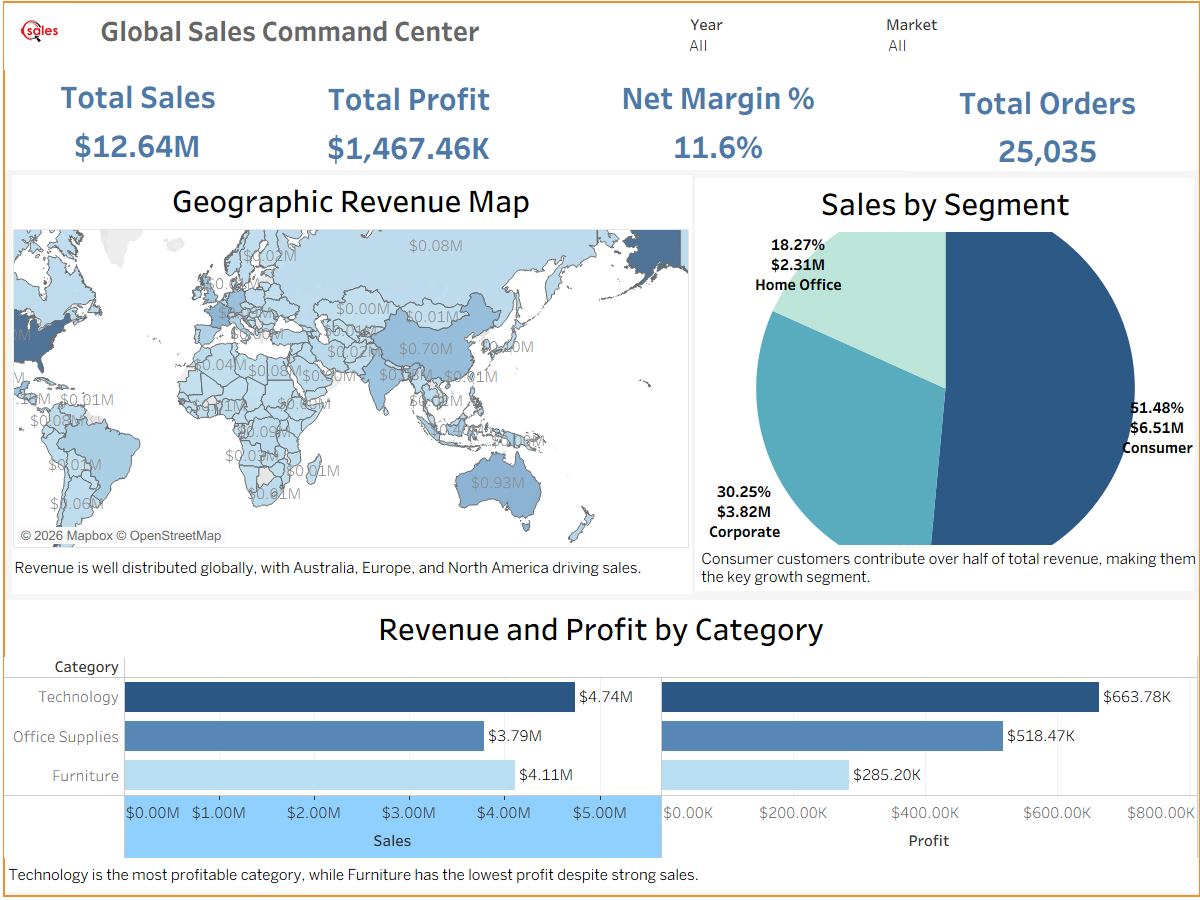

The page's visual inventory and layout, read from the dashboard file:
{"tool":"tableau","page":{"name":"Global Sales","canvas":[1200,900],"ordinal":0},"visuals":[{"type":"image","param":"C:/Users/PC/Pictures/download.png","box":[7,5,107,52]},{"type":"text","box":[97,12,386,37]},{"type":"filter","title":"year","param":"[federated.0wt0wbq0h1f5od131h4sz0xtgfsv].[none:Order_Year:ok]","box":[687,13,160,46]},{"type":"filter","title":"market","param":"[federated.0wt0wbq0h1f5od131h4sz0xtgfsv].[none:Market:nk]","box":[886,13,160,46]},{"type":"worksheet","title":"year","mark":"Automatic","box":[665,19,251,14]},{"type":"worksheet","title":"market","mark":"Automatic","box":[876,19,174,70]},{"type":"worksheet","title":"TotalSales","mark":"Automatic","box":[10,69,256,97]},{"type":"worksheet","title":"Net Margin %","mark":"Automatic","box":[590,70,256,97]},{"type":"worksheet","title":"KPIProfit","mark":"Automatic","box":[281,71,256,97]},{"type":"worksheet","title":"KPITotalOrders","mark":"Automatic","box":[905,75,285,95]},{"type":"worksheet","title":"GeographicRevenueMap","mark":"Multipolygon","box":[13,173,676,375]},{"type":"worksheet","title":"SalesBySegment","mark":"Pie","box":[697,176,497,369]},{"type":"text","box":[698,546,501,43]},{"type":"text","box":[11,548,680,38]},{"type":"worksheet","title":"RevenueAndProfitByCategory","mark":"Automatic","rows":["Category"],"cols":["Sales","Profit"],"box":[4,601,1194,258]},{"type":"text","box":[5,855,762,38]}]}

Visuals, with their boxes in screenshot pixels (x1, y1, x2, y2), scaled from the page's 1200x900 canvas onto the 1200x900 screenshot:
image: left=7, top=5, right=114, bottom=57
text: left=97, top=12, right=483, bottom=49
"year" filter: left=687, top=13, right=847, bottom=59
"market" filter: left=886, top=13, right=1046, bottom=59
"year" worksheet: left=665, top=19, right=916, bottom=33
"market" worksheet: left=876, top=19, right=1050, bottom=89
"TotalSales" worksheet: left=10, top=69, right=266, bottom=166
"Net Margin %" worksheet: left=590, top=70, right=846, bottom=167
"KPIProfit" worksheet: left=281, top=71, right=537, bottom=168
"KPITotalOrders" worksheet: left=905, top=75, right=1190, bottom=170
"GeographicRevenueMap" worksheet (Multipolygon marks): left=13, top=173, right=689, bottom=548
"SalesBySegment" worksheet (Pie marks): left=697, top=176, right=1194, bottom=545
text: left=698, top=546, right=1199, bottom=589
text: left=11, top=548, right=691, bottom=586
"RevenueAndProfitByCategory" worksheet: left=4, top=601, right=1198, bottom=859
text: left=5, top=855, right=767, bottom=893
